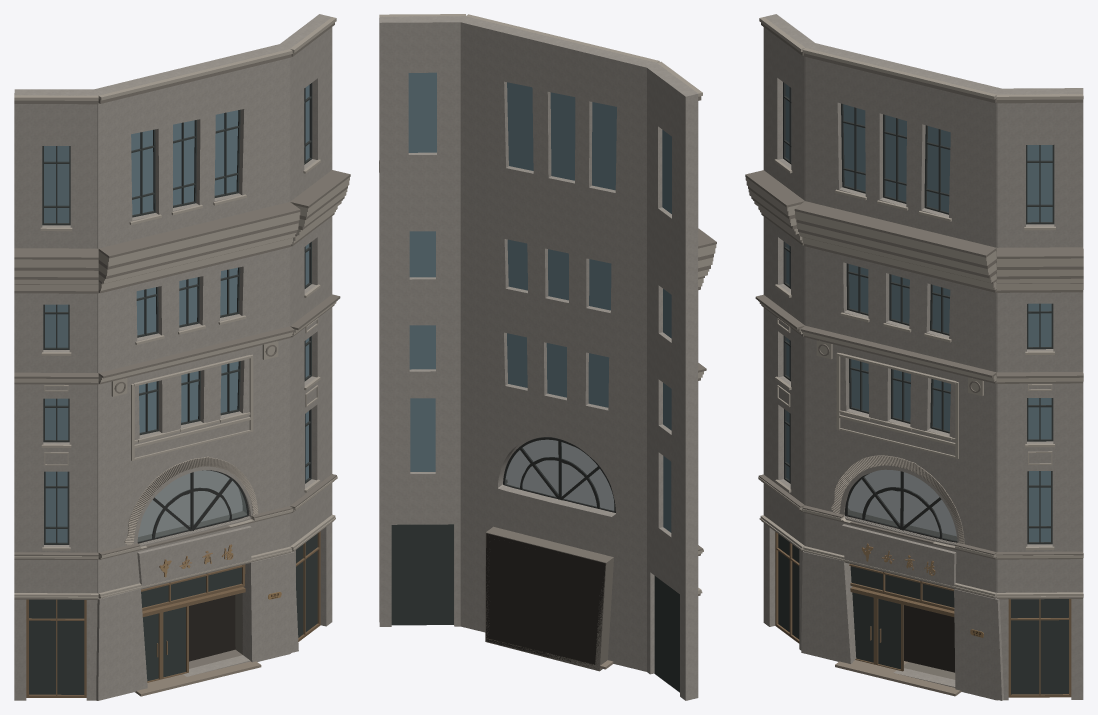
File: huangpu-central-emporium-nanjing-road-chamfer-web.glb
3 views of the same model, side by side, from view 1: azimuth 30°, elevation 25°; view 2: azimuth 150°, elevation 25°; view 3: azimuth 330°, elevation 25° (orthographic).
Visible parts, largest first — view 1: 中央商场折角入口、扇灯与三层街窗; view 2: 中央商场折角入口、扇灯与三层街窗; view 3: 中央商场折角入口、扇灯与三层街窗.
Boxes of the visible parts, x1,y1,x2,y2 form: 中央商场折角入口、扇灯与三层街窗: (14, 14, 350, 700); 中央商场折角入口、扇灯与三层街窗: (379, 14, 716, 700); 中央商场折角入口、扇灯与三层街窗: (745, 14, 1083, 700).
Size of the model in its own units: 11.21 by 19.33 by 2.25.
17 materials, 1 textured.
